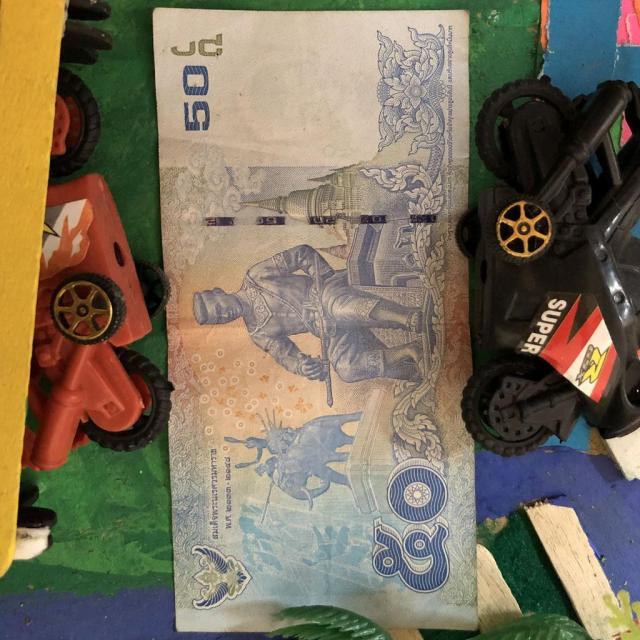THAI50: (154, 8, 478, 632)
